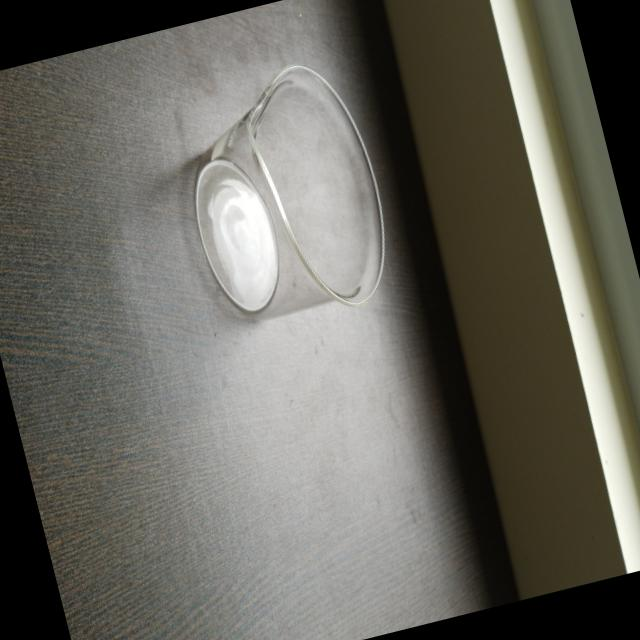beaker: (158, 48, 410, 346)
